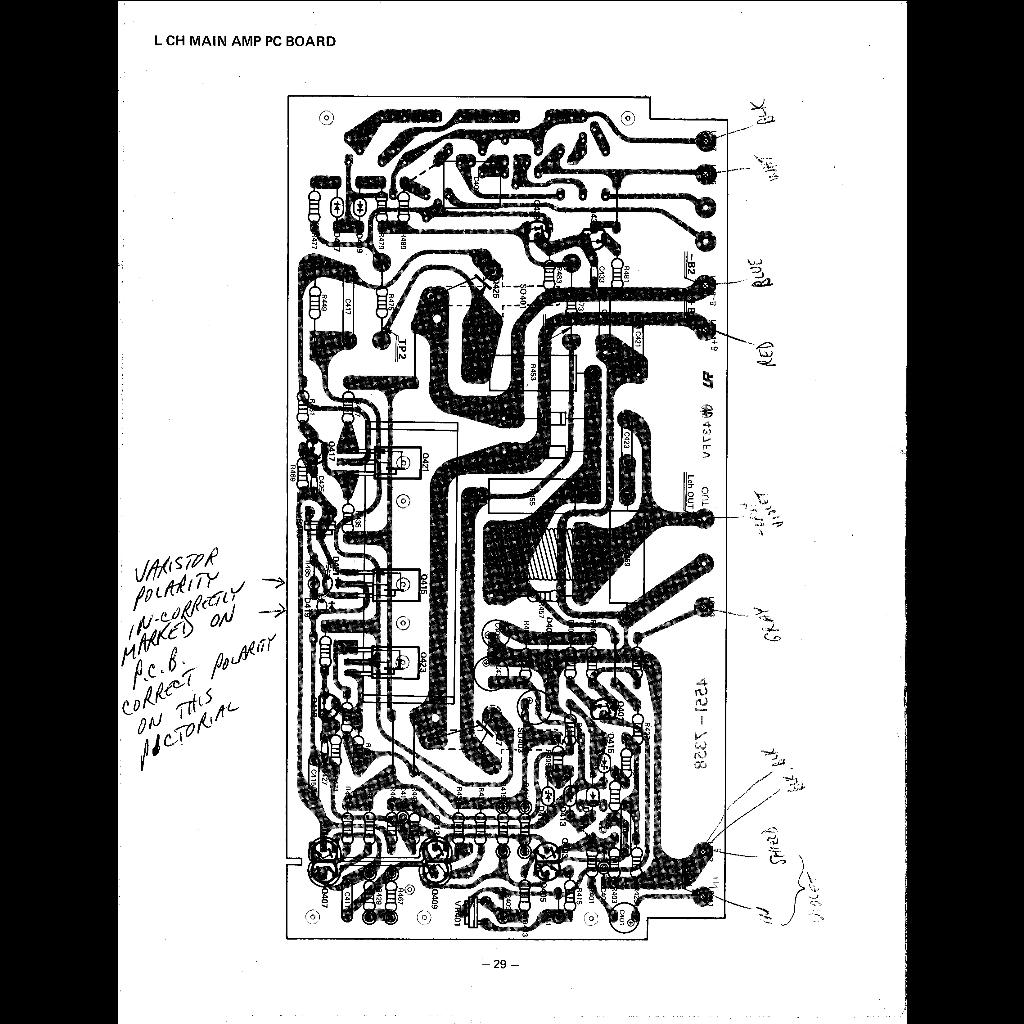Board: (286, 94, 726, 940)
